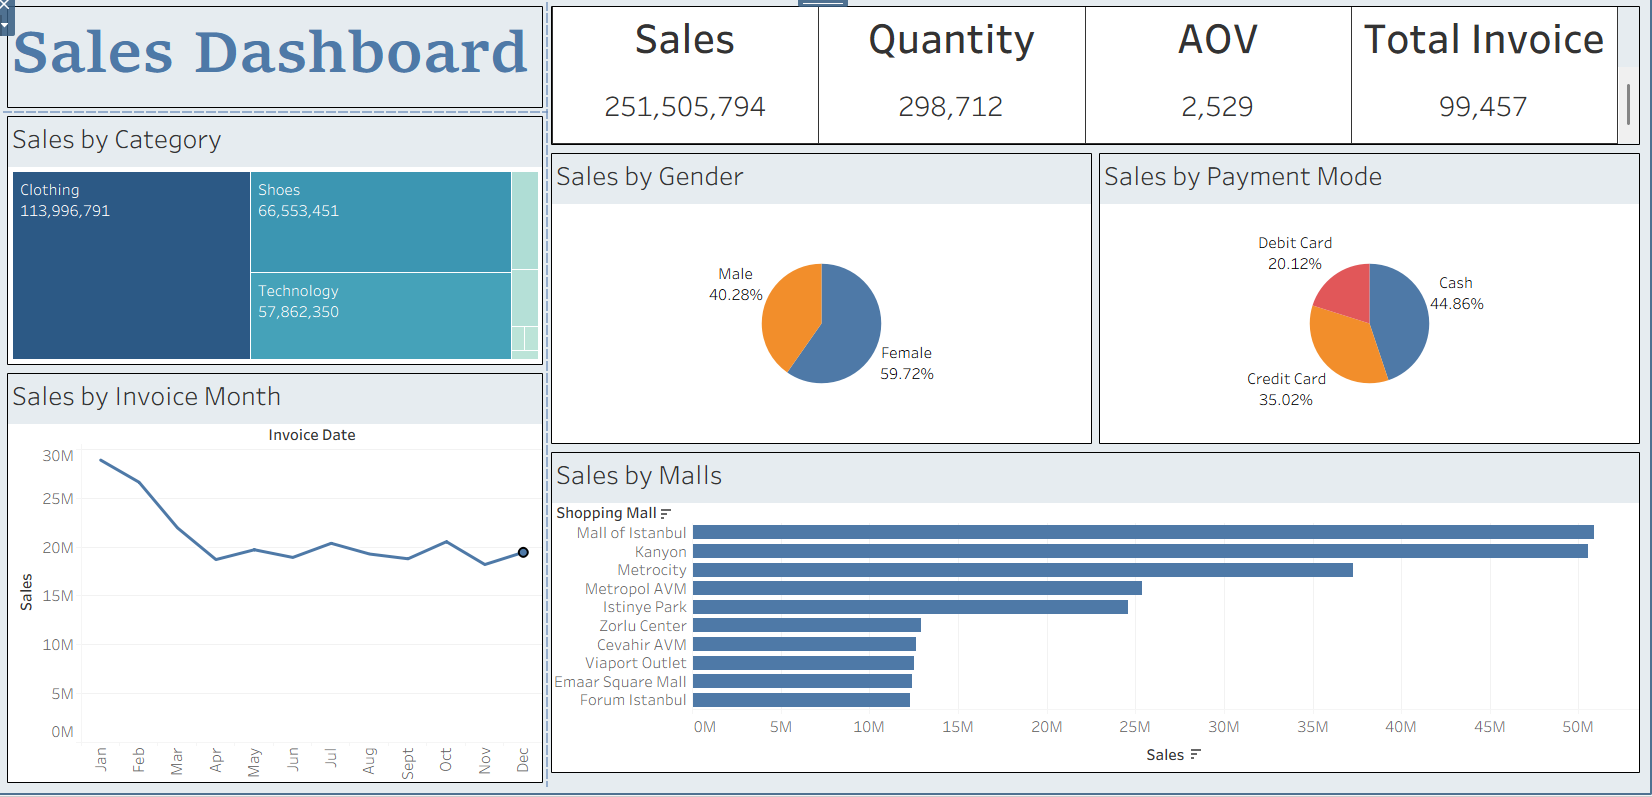

The page's visual inventory and layout, read from the dashboard file:
{"tool":"tableau","page":{"name":"Dashboard 1","canvas":[1000,1000],"units":"permille","ordinal":0},"visuals":[{"type":"title","box":[4.9,10.7,990.2,66.9]},{"type":"text","box":[4.9,77.6,328.2,127.7]},{"type":"worksheet","title":"KPI","mark":"Automatic","box":[333.2,77.6,661.9,196.8]},{"type":"worksheet","title":"Sales by Category","mark":"Automatic","box":[4.9,205.4,328.2,344]},{"type":"worksheet","title":"Sales by Gender","mark":"Pie","box":[333.2,274.4,331,321.4]},{"type":"worksheet","title":"Sales by Payment Mode","mark":"Pie","box":[664.1,274.4,331,321.4]},{"type":"worksheet","title":"Sales by Invoice Month","mark":"Automatic","rows":["Calculation_0825225153630208"],"cols":["invoice_date"],"box":[4.9,549.4,328.2,439.9]},{"type":"worksheet","title":"Sales by Malls","mark":"Automatic","rows":["shopping_mall"],"cols":["Calculation_0825225153630208"],"box":[333.2,595.8,661.9,393.5]}]}

Visuals, with their boxes on the dashboard's canvas, which has no fixed pixel size, in thousandths of its width and height (x1, y1, x2, y2). These are canvas units, not pixel positions in the 1652x797 screenshot, which may show the page scaled, cropped or inside an application window:
title: (x1=5, y1=11, x2=995, y2=78)
text: (x1=5, y1=78, x2=333, y2=205)
"KPI" worksheet: (x1=333, y1=78, x2=995, y2=274)
"Sales by Category" worksheet: (x1=5, y1=205, x2=333, y2=549)
"Sales by Gender" worksheet (Pie marks): (x1=333, y1=274, x2=664, y2=596)
"Sales by Payment Mode" worksheet (Pie marks): (x1=664, y1=274, x2=995, y2=596)
"Sales by Invoice Month" worksheet: (x1=5, y1=549, x2=333, y2=989)
"Sales by Malls" worksheet: (x1=333, y1=596, x2=995, y2=989)
